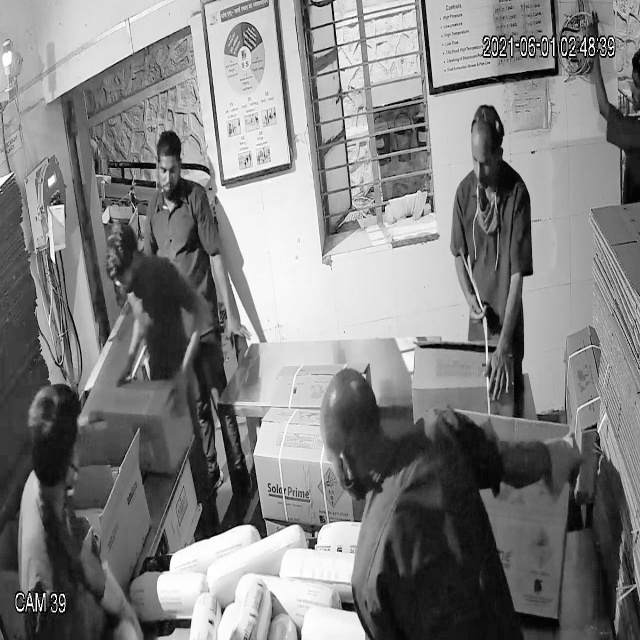Sin_gafas: (460, 145, 508, 176), (150, 155, 186, 181)
